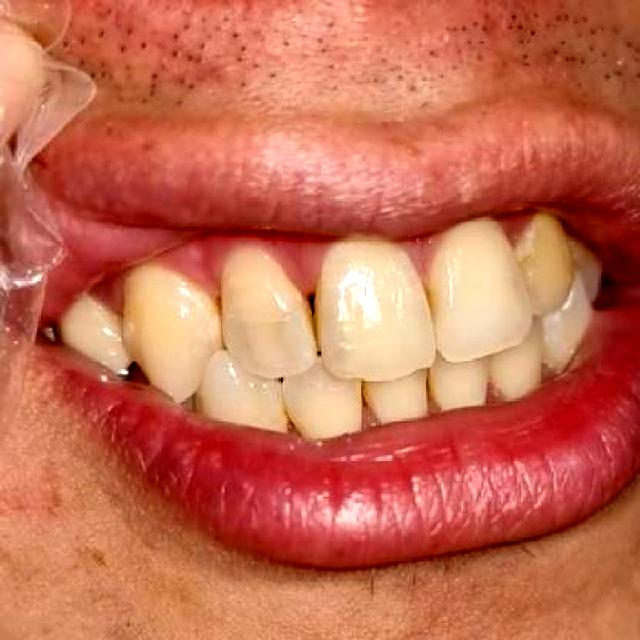Plaque: (485, 202, 548, 270)
